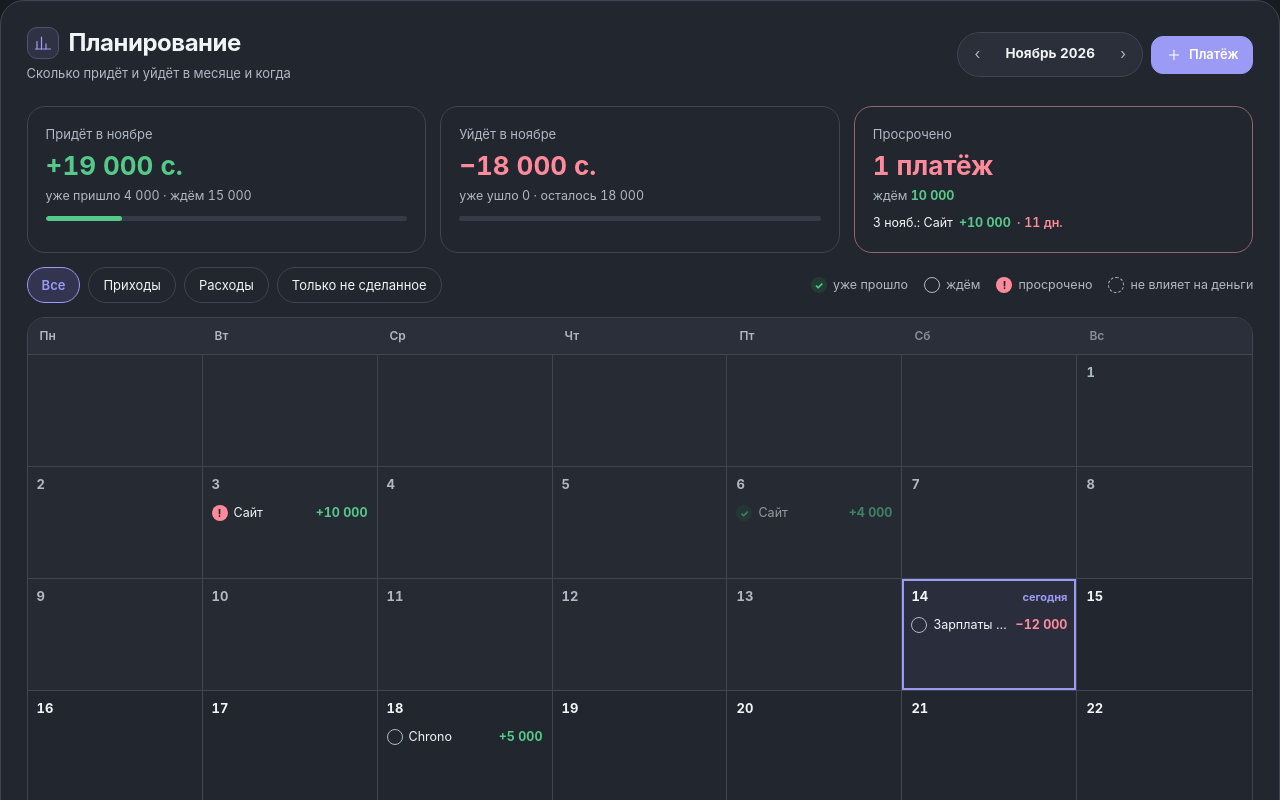
Test case: FinancePlanningPage › «Отметить полученной»: активный счёт и сегодняшняя дата для просроченного
Check: the element "Придёт" is shown, box 27,106 -> 426,253
Click the 1st text "Сайт": (248, 512) 234,505 -> 263,520
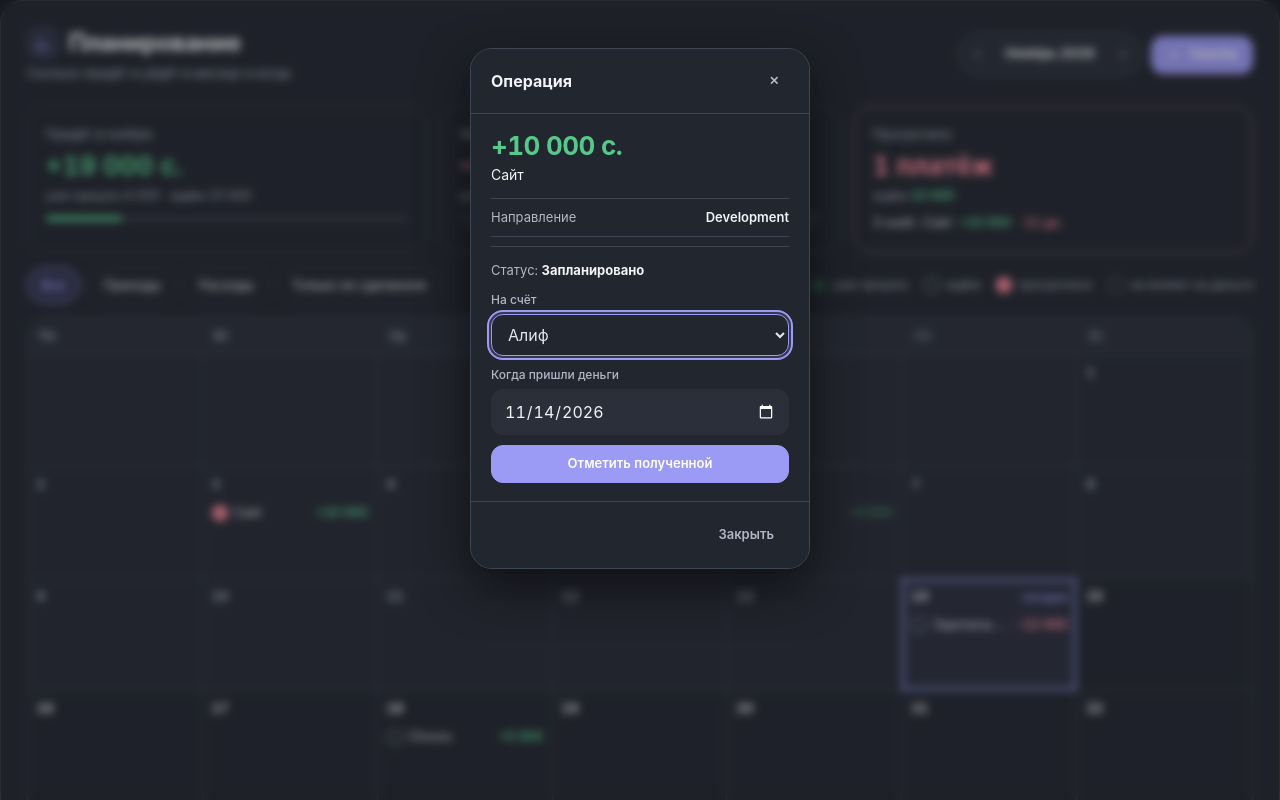
Check: the dropdown labelled "На счёт" shows "Алиф", box 491,314 -> 789,356
Check: the date field labelled "Когда пришли деньги" holds "2026-11-14", box 491,389 -> 789,435
Click the button "Отметить полученной": (640, 464) 491,445 -> 789,483
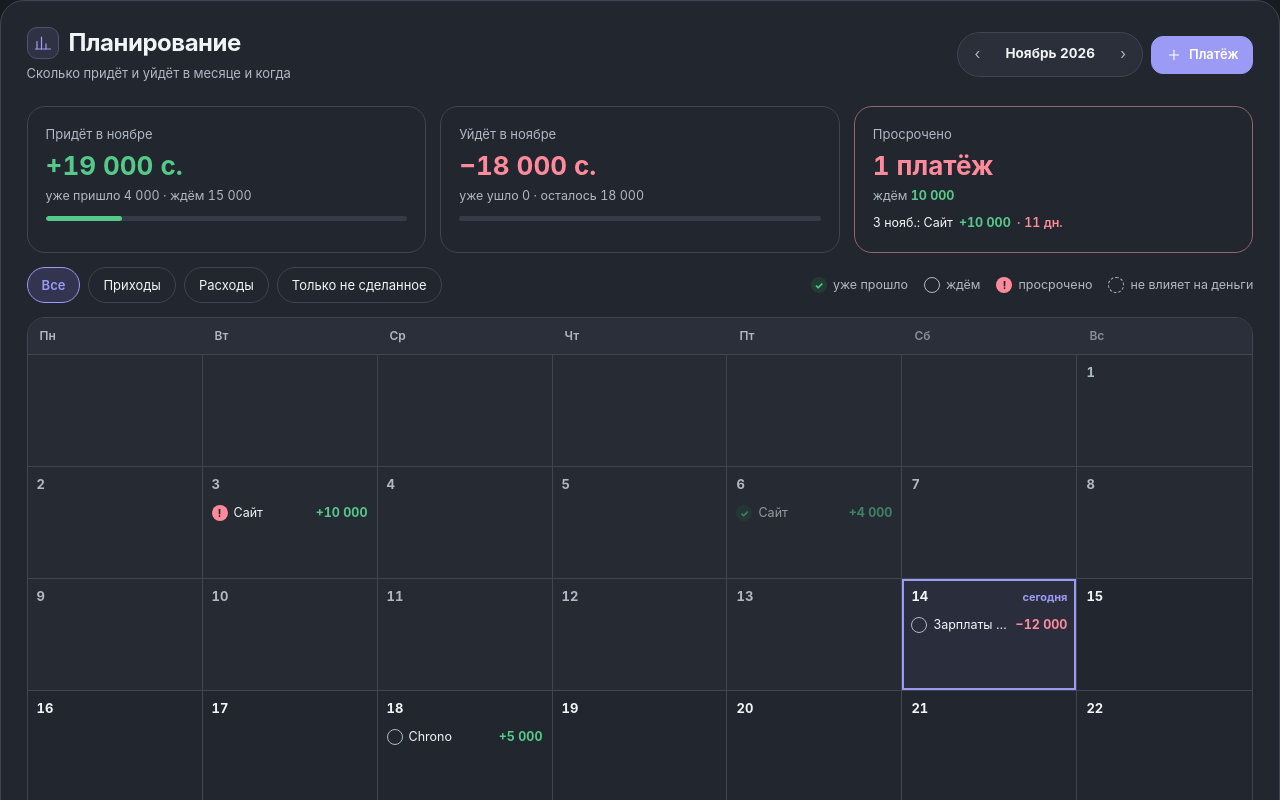
Check: the heading "Операция" is gone
